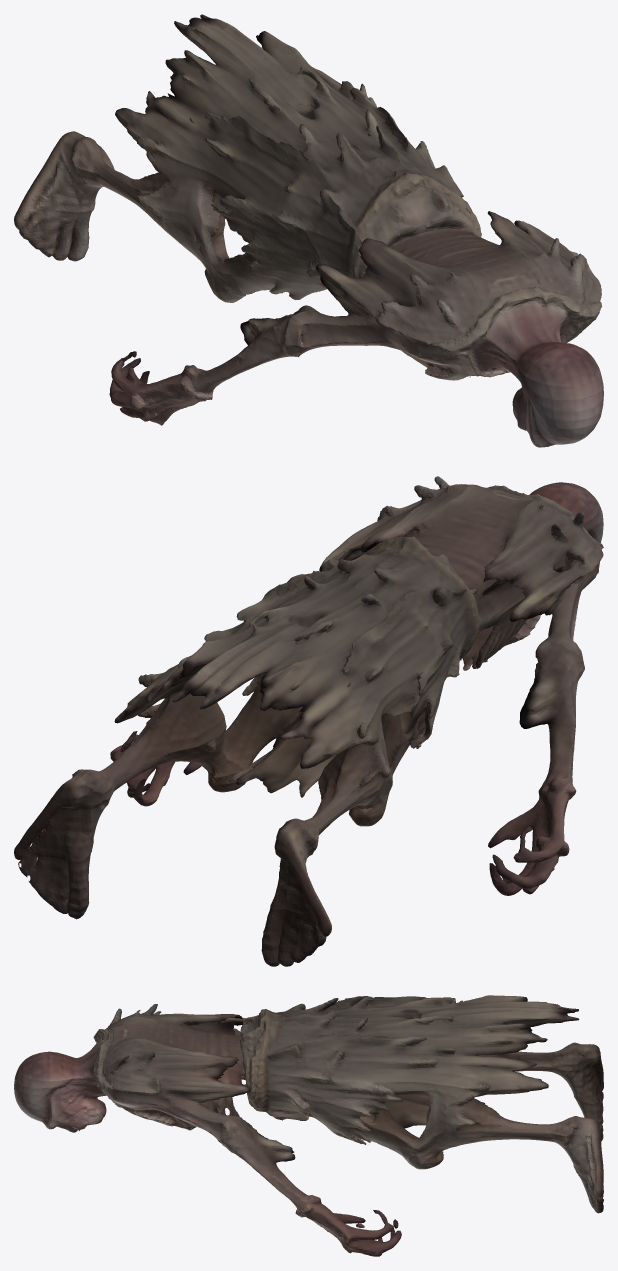
Rendered from hollow-initial.glb.
3 renders of one model, top to bottom at view 1: azimuth 30°, elevation 25°; view 2: azimuth 150°, elevation 25°; view 3: azimuth 270°, elevation 25°, orthographic. The views are drawn at different scales.
Visible parts, largest first — view 1: geometry_0; view 2: geometry_0; view 3: geometry_0.
Part boxes in pixels (x1,y1,x2,y2): geometry_0: (14,14,603,447); geometry_0: (14,476,603,966); geometry_0: (14,995,603,1256).
Size of the model in its own units: 0.6093 by 0.3526 by 1.
